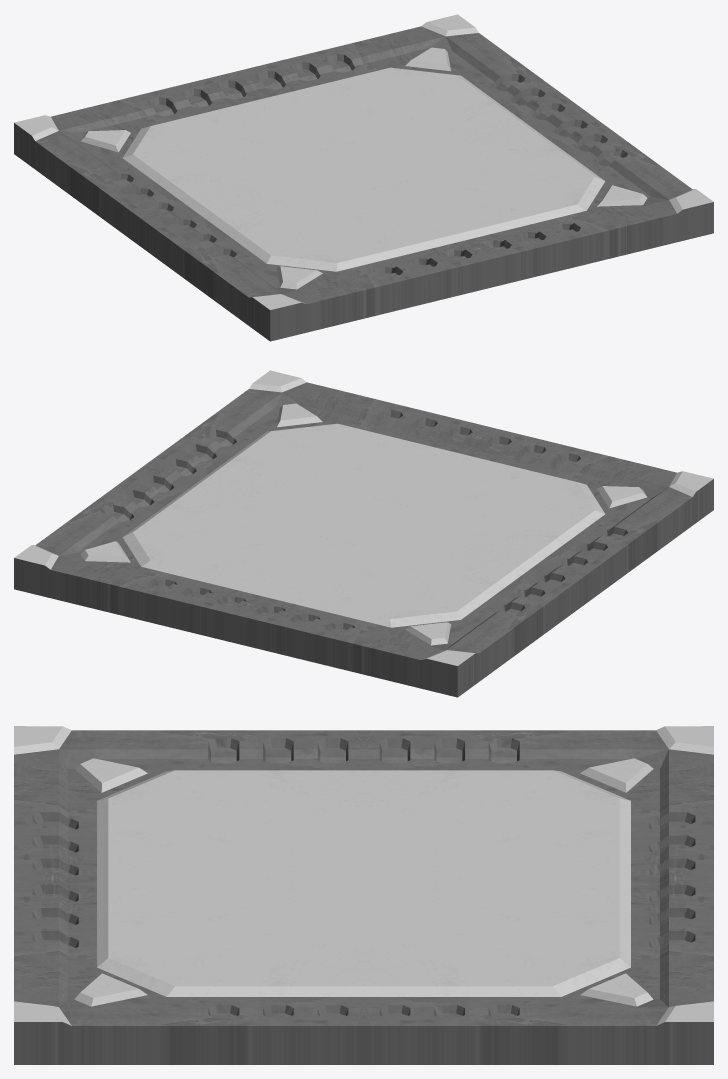
Rendered from Floor 1.fbx.
The picture shows the model from 3 angles, top to bottom: view 1: azimuth 30°, elevation 25°; view 2: azimuth 150°, elevation 25°; view 3: azimuth 270°, elevation 25°; orthographic projection. The views are drawn at different scales.
Visible parts, largest first — view 1: Plane; view 2: Plane; view 3: Plane.
Boxes of the visible parts, <box> form: Plane: <box>14,14,713,341</box>; Plane: <box>14,370,713,697</box>; Plane: <box>14,726,713,1064</box>.
Bounding box in the file's own units: 200 × 13.52 × 200.
Materials: 1 (1 with a texture image).
